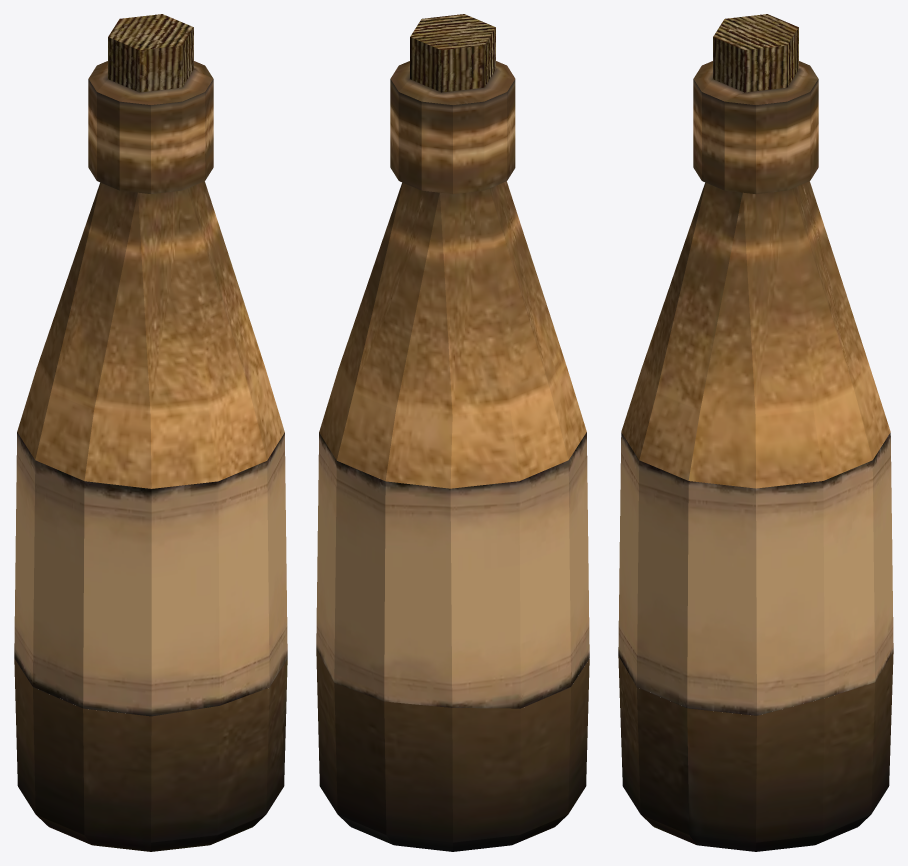
Rendered from ITFO_LAKOMY_BEER_01.glb.
The picture shows the model from 3 angles, left to right: view 1: azimuth 30°, elevation 25°; view 2: azimuth 150°, elevation 25°; view 3: azimuth 270°, elevation 25°; orthographic projection.
Parts seen in each view (by area): view 1: ITFO_LAKOMY_BEER_01; view 2: ITFO_LAKOMY_BEER_01; view 3: ITFO_LAKOMY_BEER_01.
Boxes of the visible parts, x1,y1,x2,y2 form: ITFO_LAKOMY_BEER_01: (14, 14, 287, 851); ITFO_LAKOMY_BEER_01: (316, 14, 589, 851); ITFO_LAKOMY_BEER_01: (618, 14, 893, 851).
Size of the model in its own units: 0.1027 by 0.3201 by 0.1037.
Materials: 2 (2 with a texture image).
